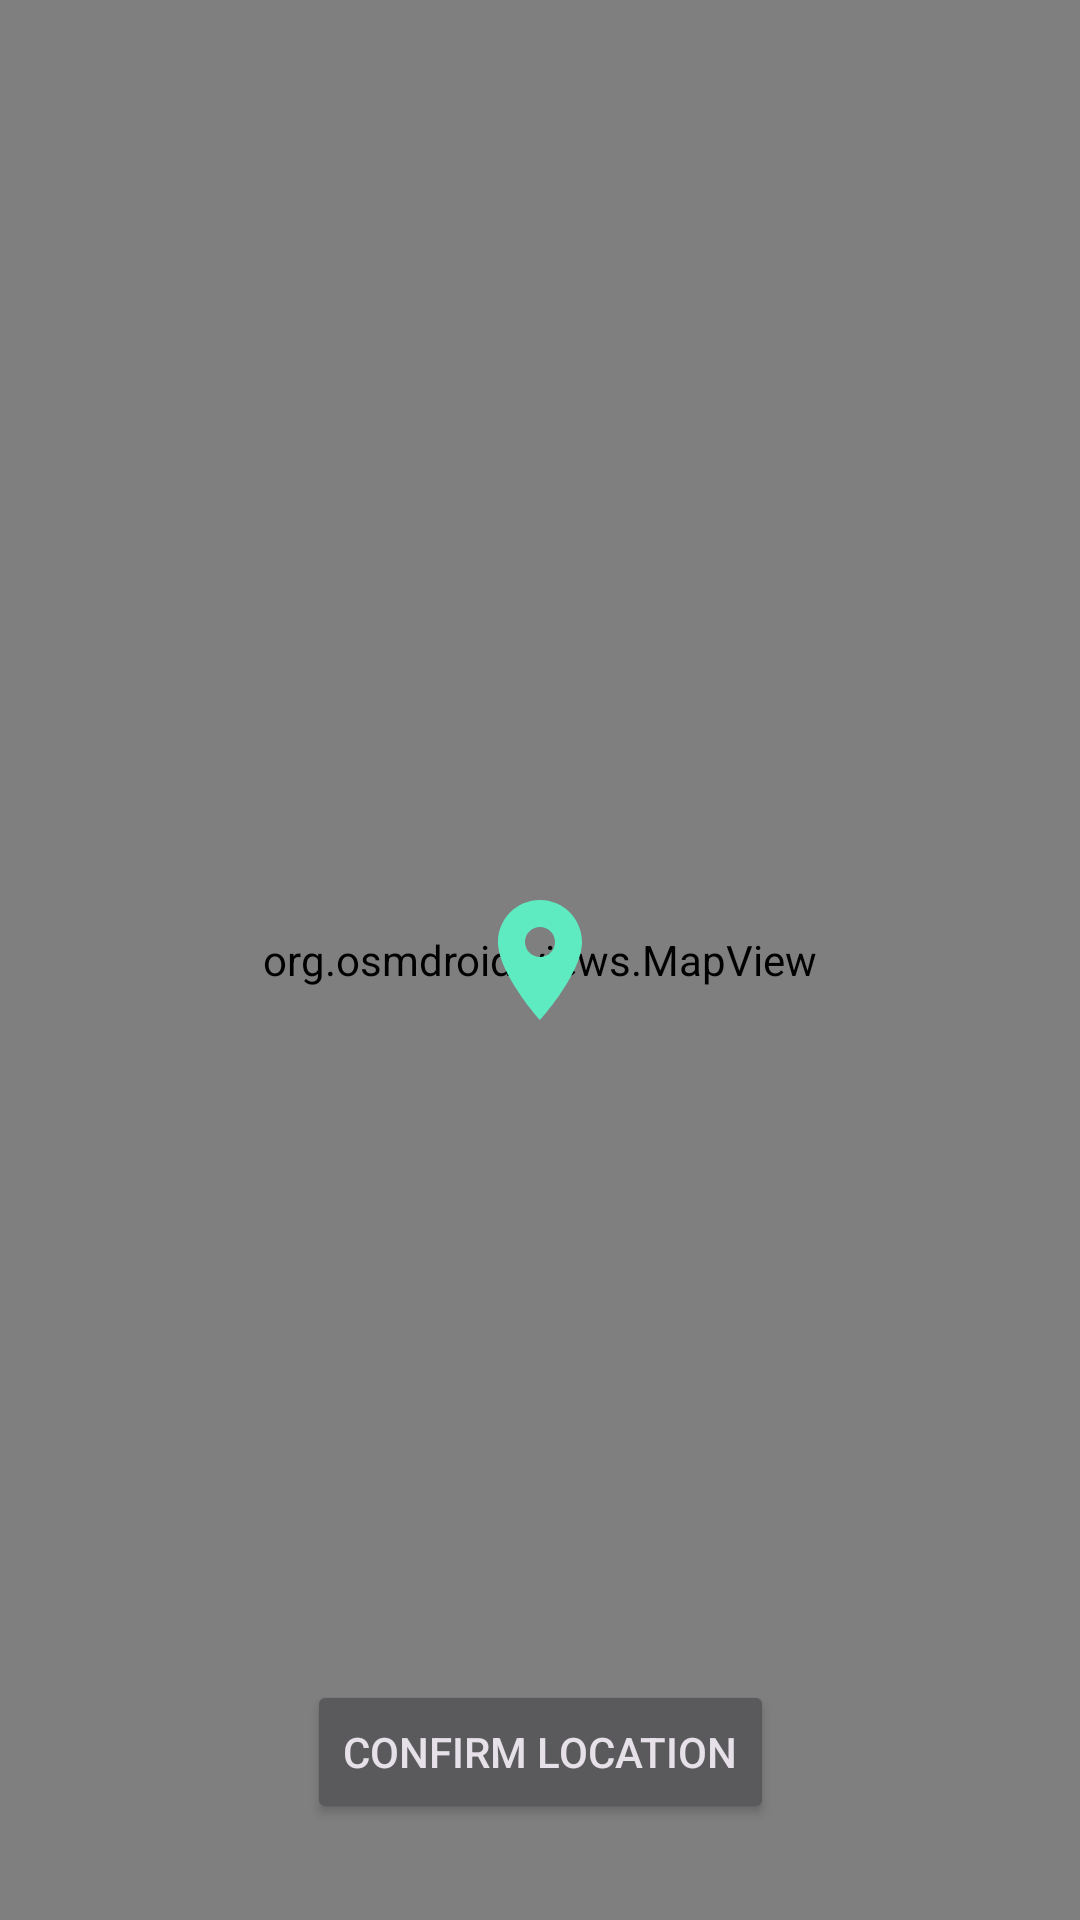

Icons on this 1080*1920 Android screen, each with its box as (x1, y1, x2, y2):
location pin: (483, 900, 608, 1020)
